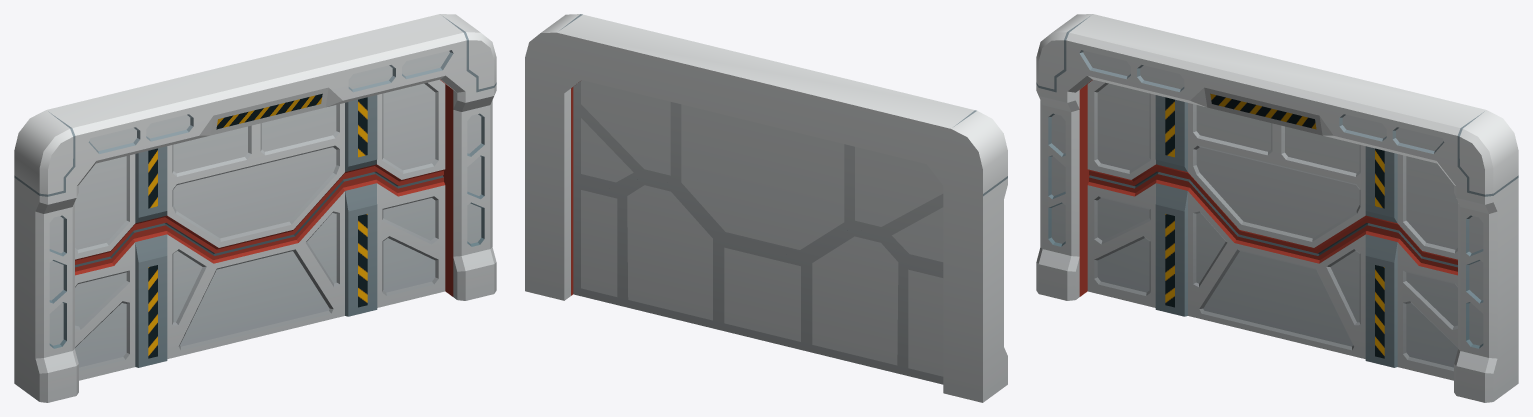
Rendered from doorway_frame_blocked_1x1_breached.glb.
3 views of the same model, side by side, from view 1: azimuth 30°, elevation 25°; view 2: azimuth 150°, elevation 25°; view 3: azimuth 330°, elevation 25° (orthographic).
Visible parts, largest first — view 1: Door_009, Door_panel_016, Door_panel_015; view 2: Door_009, Door_panel_016, Door_panel_015; view 3: Door_009, Door_panel_016, Door_panel_015.
Boxes of the visible parts, bbox=[...] form: Door_009: bbox=[14, 14, 496, 402]; Door_panel_016: bbox=[75, 172, 445, 380]; Door_panel_015: bbox=[75, 79, 445, 264]; Door_009: bbox=[525, 14, 1007, 402]; Door_panel_016: bbox=[573, 176, 943, 384]; Door_panel_015: bbox=[573, 80, 943, 269]; Door_009: bbox=[1036, 14, 1518, 402]; Door_panel_016: bbox=[1087, 172, 1457, 380]; Door_panel_015: bbox=[1087, 79, 1457, 264].
Size of the model in its own units: 6.04 by 3.36 by 0.6445.
1 material, 1 textured.
